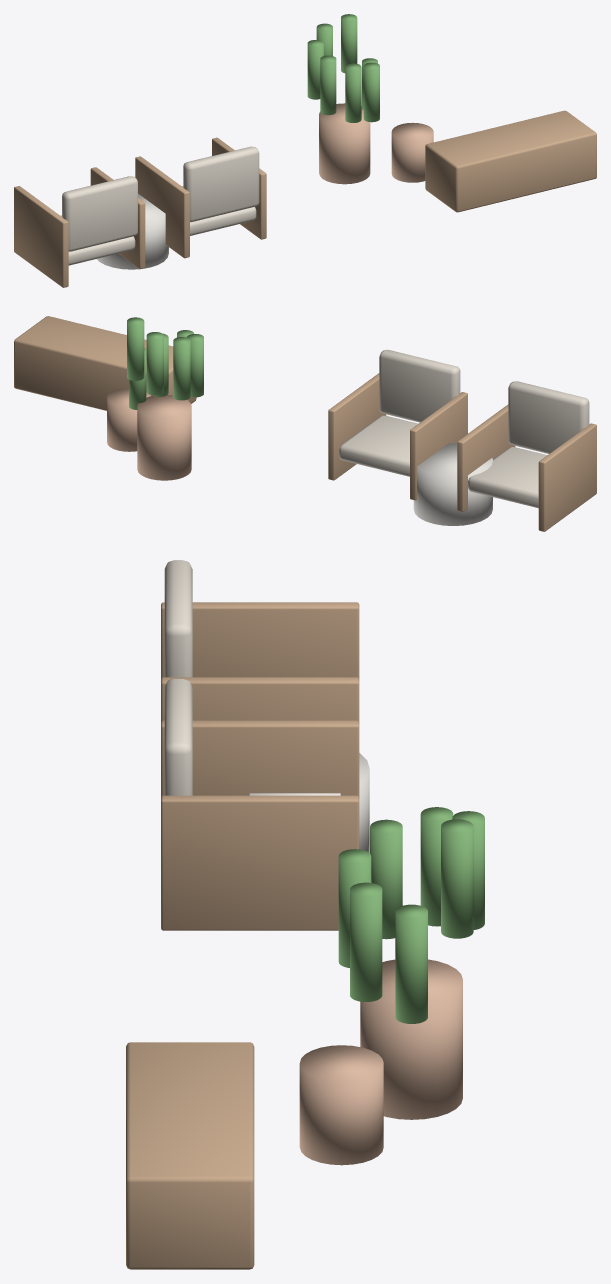
The model's file is room_garden_living.glb.
The picture shows the model from 3 angles, top to bottom: view 1: azimuth 30°, elevation 25°; view 2: azimuth 150°, elevation 25°; view 3: azimuth 270°, elevation 25°; orthographic projection. The views are drawn at different scales.
Parts seen in each view (by area): view 1: Patio_Bench, Lounge_Back_1, Lounge_Back_0, Lounge_Frame_L_0, Pot_1, Lounge_Frame_L_1, Pot_2, Stone_Table, Lounge_Frame_R_0, Lounge_Frame_R_1, Tropical_Leaf_3, Tropical_Leaf_1 (+6 smaller); view 2: Patio_Bench, Lounge_Back_1, Lounge_Back_0, Lounge_Frame_L_0, Pot_1, Stone_Table, Lounge_Seat_1, Lounge_Seat_0, Lounge_Frame_R_1, Lounge_Frame_L_1, Lounge_Frame_R_0, Pot_2 (+6 smaller); view 3: Patio_Bench, Lounge_Frame_R_1, Lounge_Frame_L_0, Lounge_Frame_L_1, Pot_1, Pot_2, Lounge_Frame_R_0, Tropical_Leaf_6, Tropical_Leaf_0, Tropical_Leaf_1, Lounge_Back_0, Lounge_Back_1 (+5 smaller).
Part boxes in pixels (x1,y1,x2,y2): Patio_Bench: (425,110,596,212); Lounge_Back_1: (183,146,259,222); Lounge_Back_0: (62,176,137,251); Lounge_Frame_L_0: (14,186,68,287); Pot_1: (319,103,370,184); Lounge_Frame_L_1: (135,156,189,258); Pot_2: (391,122,433,182); Stone_Table: (97,193,168,269); Lounge_Frame_R_0: (90,167,145,268); Lounge_Frame_R_1: (212,137,266,239); Tropical_Leaf_3: (320,55,336,115); Tropical_Leaf_1: (363,62,379,122); Patio_Bench: (14,316,196,410); Lounge_Back_1: (379,349,460,422); Lounge_Back_0: (508,381,589,453); Lounge_Frame_L_0: (538,423,596,531); Pot_1: (137,395,191,480); Stone_Table: (413,443,492,525); Lounge_Seat_1: (339,415,418,476); Lounge_Seat_0: (468,447,547,508); Lounge_Frame_R_1: (328,373,386,480); Lounge_Frame_L_1: (410,392,467,500); Lounge_Frame_R_0: (457,404,515,511); Pot_2: (107,388,150,451); Patio_Bench: (126,1042,254,1269); Lounge_Frame_R_1: (161,795,359,930); Lounge_Frame_L_0: (161,602,359,678); Lounge_Frame_L_1: (161,720,359,797); Pot_1: (360,959,462,1119); Pot_2: (299,1045,383,1165); Lounge_Frame_R_0: (161,677,359,722); Tropical_Leaf_6: (441,819,473,938); Tropical_Leaf_0: (395,904,427,1023); Tropical_Leaf_1: (350,882,382,1001); Lounge_Back_0: (164,560,192,677); Lounge_Back_1: (164,678,192,795).
Bounding box in the file's own units: 5.21 × 1.36 × 1.54.
